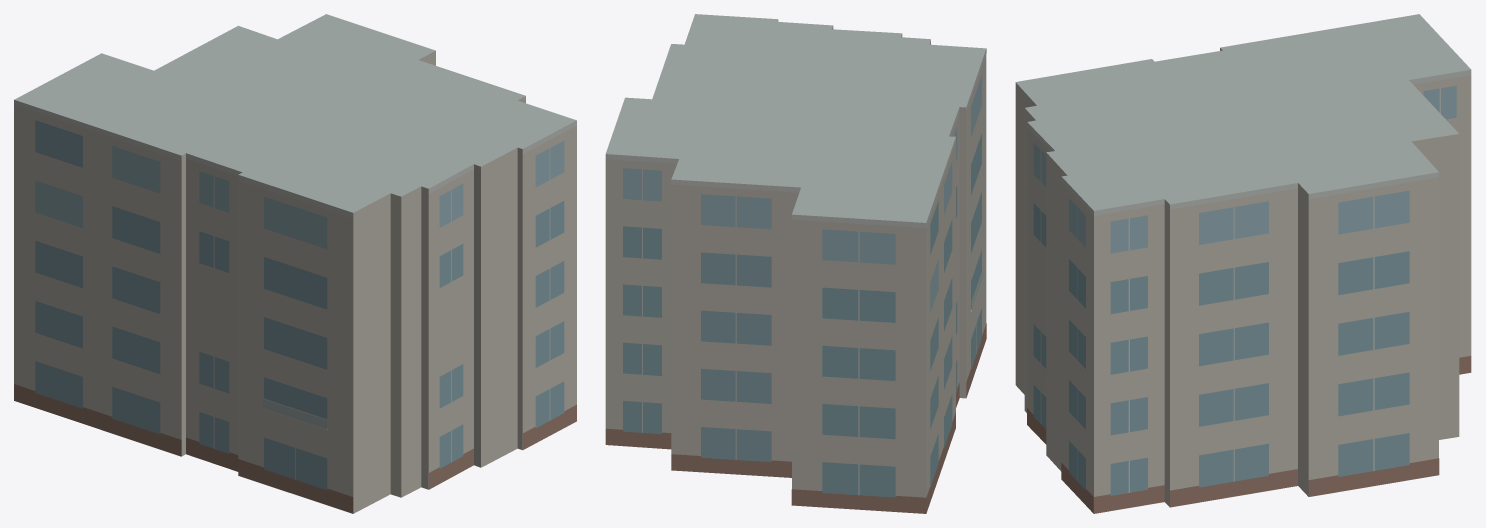
File: survey-upis-32757856.glb
3 views of the same model, side by side, from view 1: azimuth 30°, elevation 25°; view 2: azimuth 150°, elevation 25°; view 3: azimuth 270°, elevation 25° (orthographic). The views are drawn at different scales.
Parts seen in each view (by area): view 1: survey-upis-32757856.tmp; view 2: survey-upis-32757856.tmp; view 3: survey-upis-32757856.tmp.
Boxes of the visible parts, <box> form: survey-upis-32757856.tmp: <box>14,14,576,513</box>; survey-upis-32757856.tmp: <box>605,14,986,513</box>; survey-upis-32757856.tmp: <box>1015,14,1471,513</box>.
Bounding box in the file's own units: 19.52 × 14 × 19.1.
